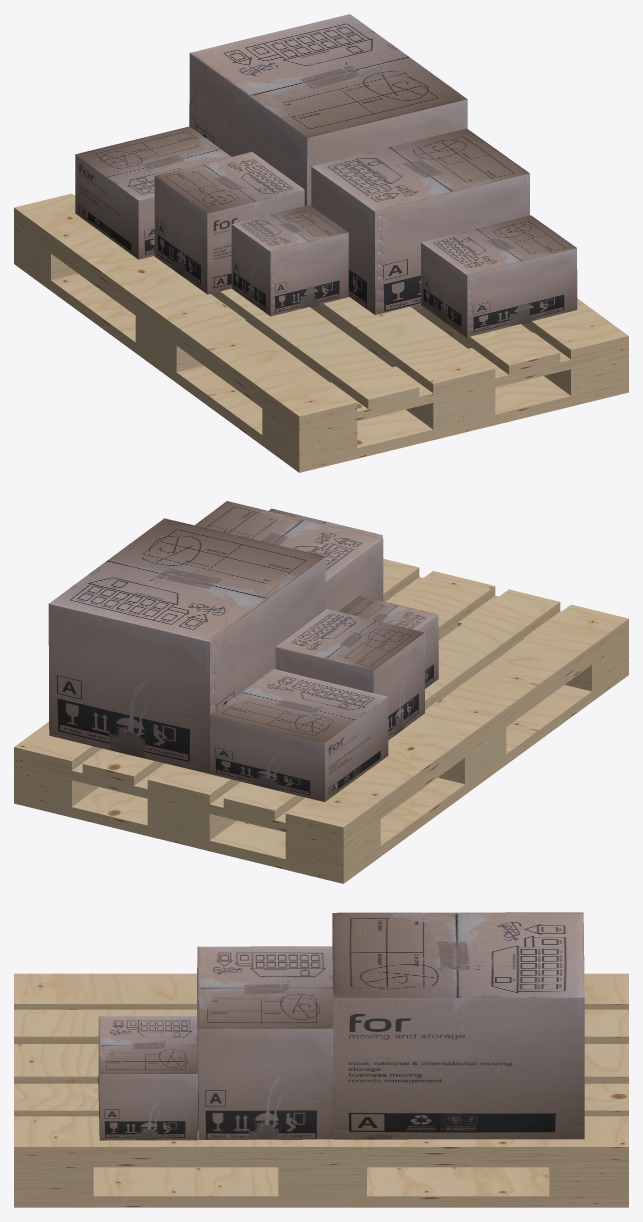
File: pallet.gltf
3 renders of one model, top to bottom at view 1: azimuth 30°, elevation 25°; view 2: azimuth 150°, elevation 25°; view 3: azimuth 270°, elevation 25°, orthographic. The views are drawn at different scales.
Parts seen in each view (by area): view 1: Palette, Box002, Box003, Box001, Box002_Material #61_0.001, Box002_Material #64_0.001, Box002_Material #64_0.003, Box002_Material #64_0.002, Box002_Material #61_0.003, Box002_Material #63_0.001, Box002_Material #61_0.002, Box002_Material #63_0.003 (+1 smaller); view 2: Palette, Box002, Box001, Box003, Box002_Material #61_0.001, Box002_Material #63_0.001, Box002_Material #61_0.002, Box002_Material #63_0.002; view 3: Palette, Box002, Box002_Material #63_0.001, Box002_Material #61_0.001, Box002_Material #63_0.003, Box002_Material #61_0.003.
Boxes of the visible parts, <box> form: Palette: <box>14,193,628,472</box>; Box002: <box>189,14,467,205</box>; Box003: <box>154,152,304,294</box>; Box001: <box>75,126,231,259</box>; Box002_Material #61_0.001: <box>311,128,529,211</box>; Box002_Material #64_0.001: <box>375,173,529,314</box>; Box002_Material #64_0.003: <box>467,248,577,337</box>; Box002_Material #64_0.002: <box>270,232,348,316</box>; Box002_Material #61_0.003: <box>421,215,576,275</box>; Box002_Material #63_0.001: <box>311,167,375,314</box>; Box002_Material #61_0.002: <box>232,205,348,251</box>; Box002_Material #63_0.003: <box>421,243,467,337</box>; Palette: <box>14,558,628,883</box>; Box002: <box>48,518,325,773</box>; Box001: <box>210,669,388,801</box>; Box003: <box>275,609,424,740</box>; Box002_Material #61_0.001: <box>195,501,382,581</box>; Box002_Material #63_0.001: <box>325,539,383,611</box>; Box002_Material #61_0.002: <box>339,596,437,630</box>; Box002_Material #63_0.002: <box>417,615,438,688</box>; Palette: <box>14,973,628,1207</box>; Box002: <box>332,912,584,1139</box>; Box002_Material #63_0.001: <box>198,1028,333,1139</box>; Box002_Material #61_0.001: <box>197,946,333,1028</box>; Box002_Material #63_0.003: <box>99,1074,197,1140</box>; Box002_Material #61_0.003: <box>98,1016,197,1073</box>.
Bounding box in the file's own units: 31.5 × 17.24 × 47.25.
6 materials, 6 textured.
